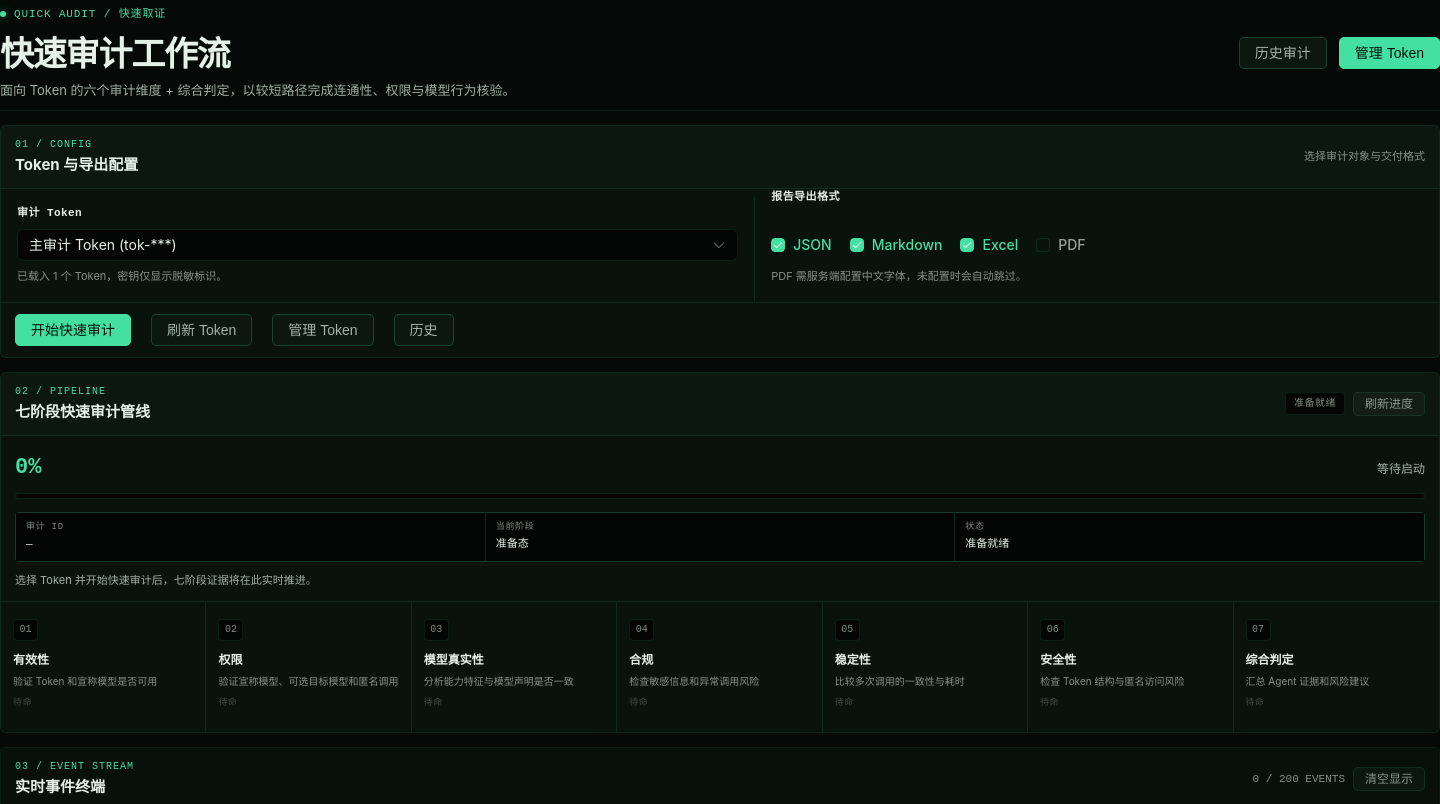
Test: AuditForm submit lifecycle › allows multiple audits to be started while another task is running
The image size is (1440, 804).
Click the button "开始快速审计": click(73, 330) [15,314,131,346]
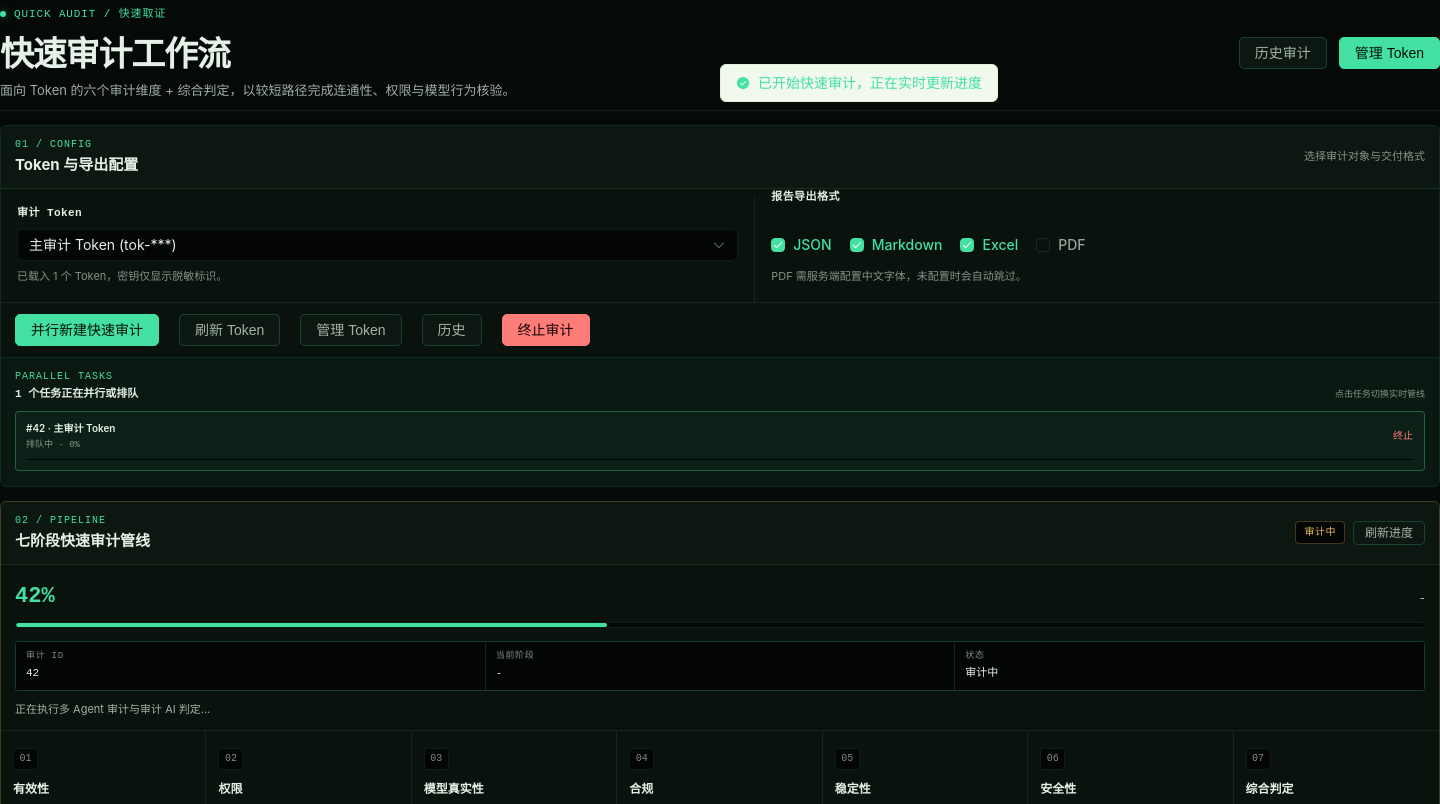
Click the button "并行新建快速审计": click(87, 330) [15,314,159,346]
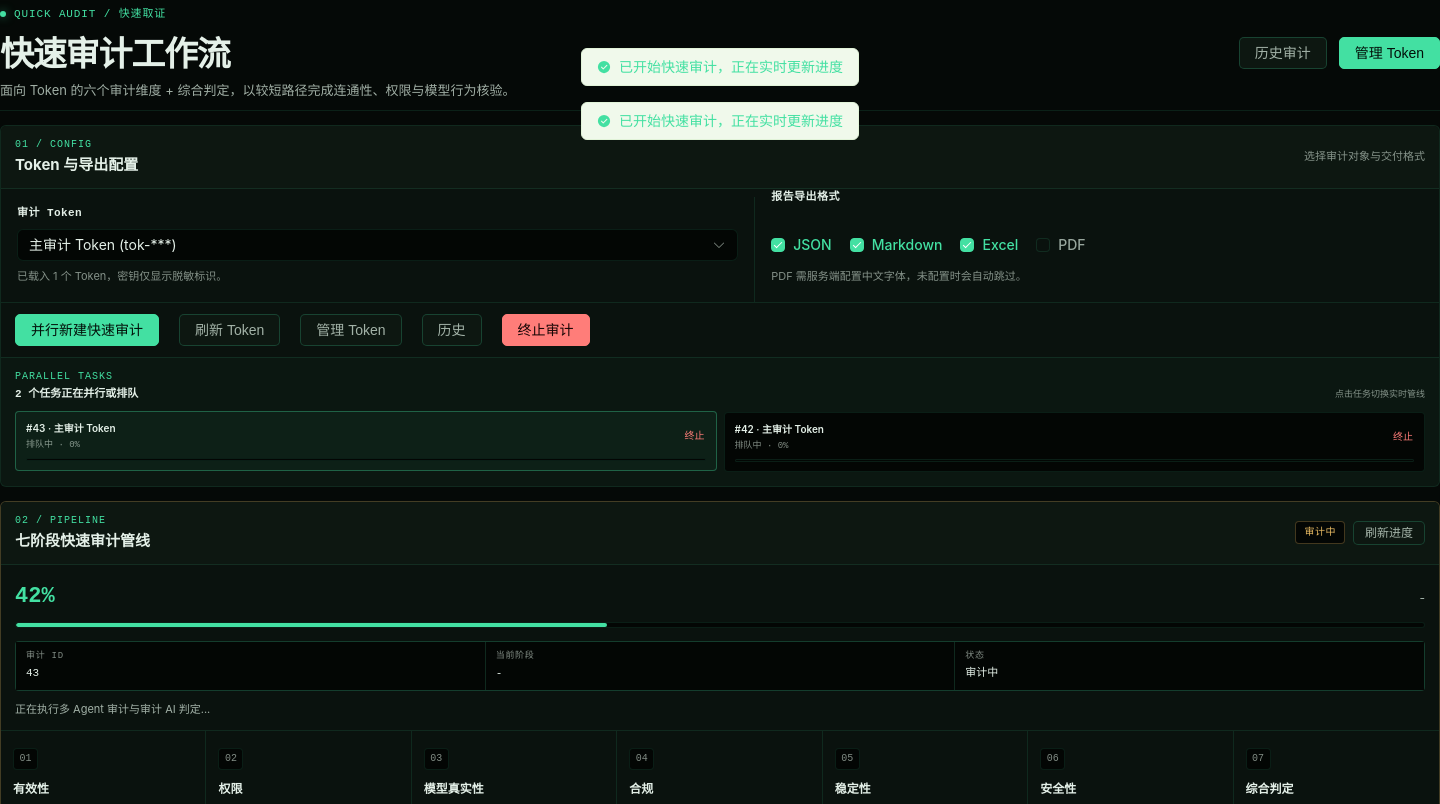
Result: the text "43" is shown at [26,422,116,434]
